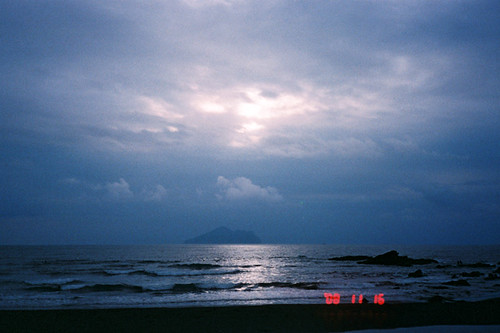turtleIsland: (184, 224, 263, 246)
